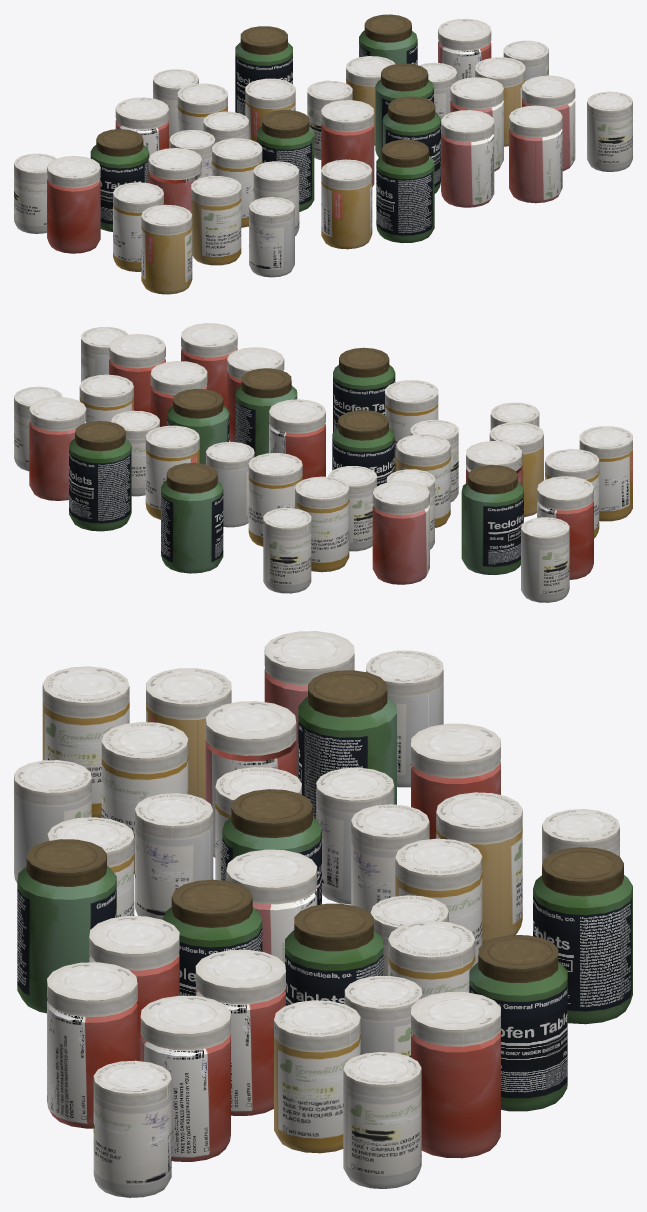
File: Pills_C.fbx
3 views of the same model, one above another, from view 1: azimuth 30°, elevation 25°; view 2: azimuth 150°, elevation 25°; view 3: azimuth 270°, elevation 25° (orthographic). The views are drawn at different scales.
Visible parts, largest first — view 1: Pills_C; view 2: Pills_C; view 3: Pills_C.
Part boxes in pixels (left/top/right/bottom): Pills_C: left=14, top=14, right=632, bottom=294; Pills_C: left=14, top=323, right=632, bottom=602; Pills_C: left=14, top=631, right=632, bottom=1197.
Bounding box in the file's own units: 241 × 35.69 × 142.
1 material, 1 textured.
